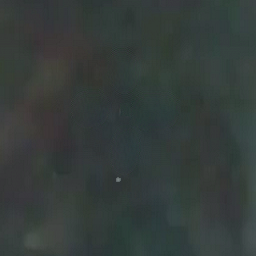Target: (114, 175, 122, 183)
